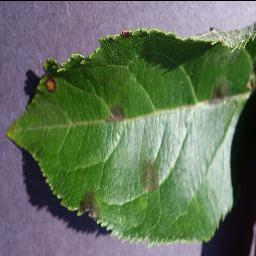apple healthy: (44, 77, 56, 92)
